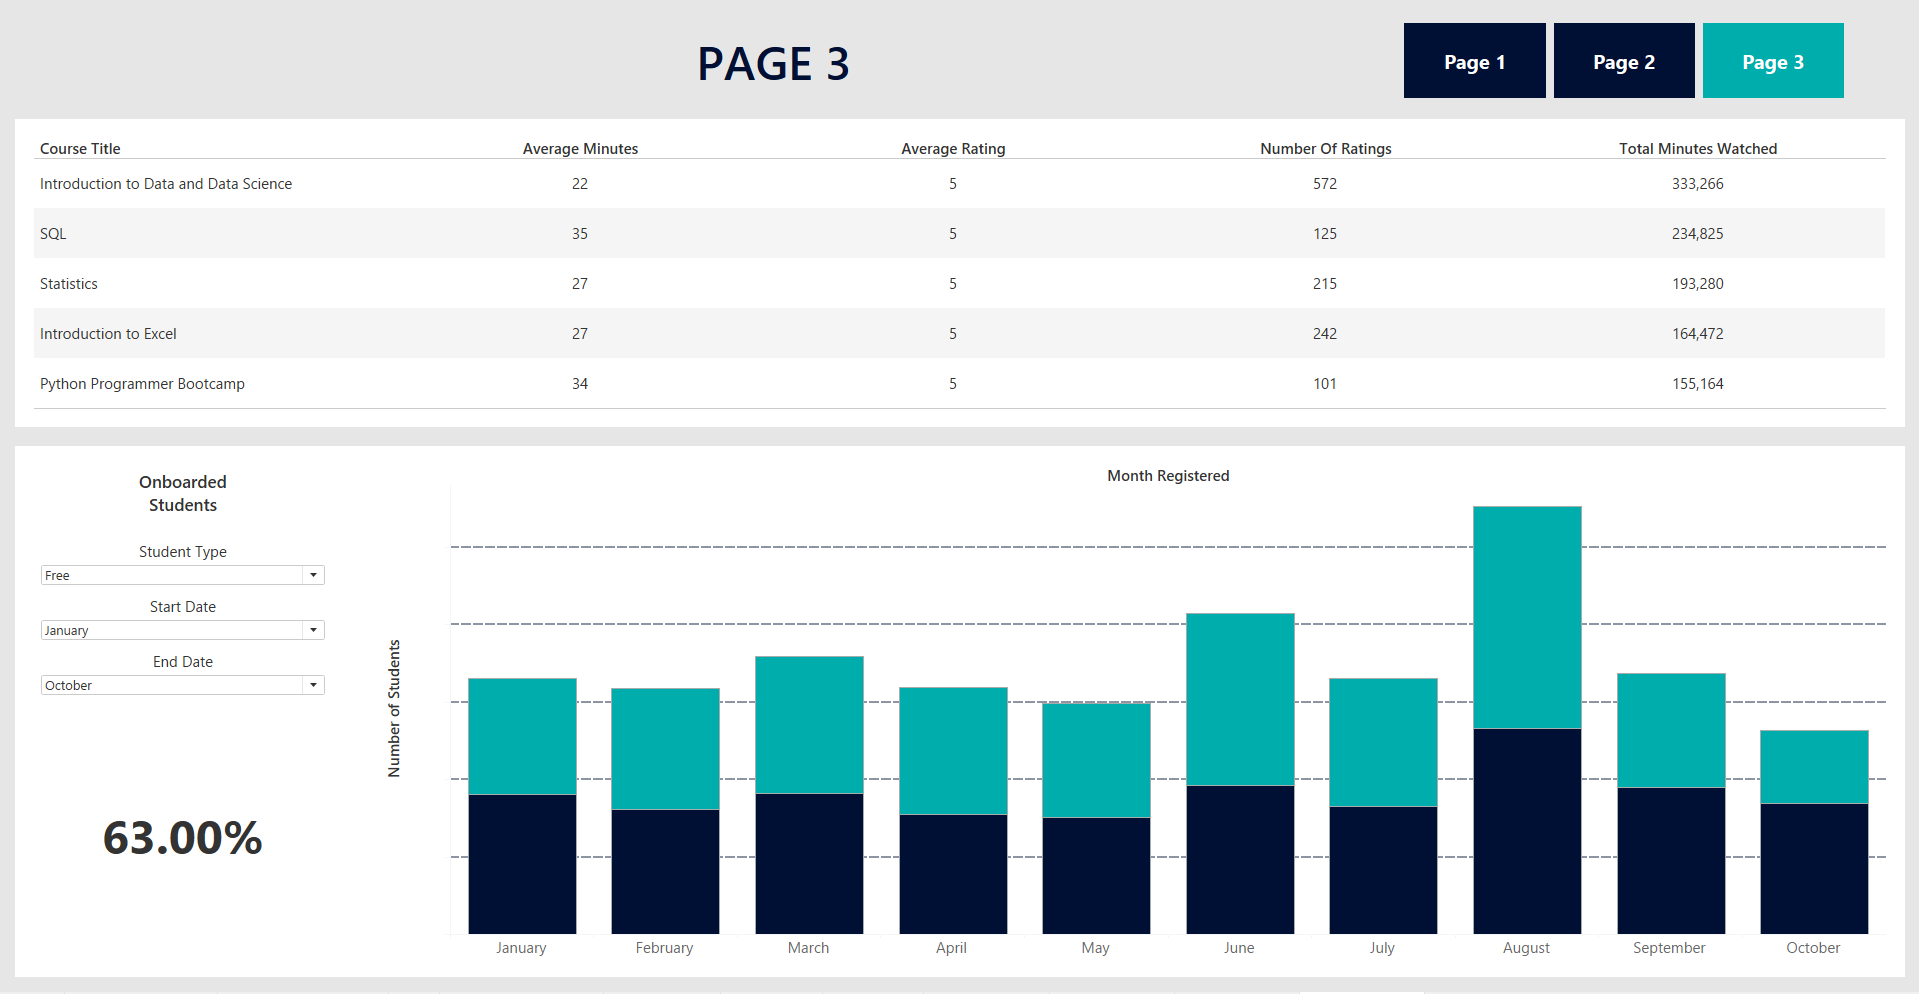

Layout of this report page (visuals, bound fields, positions):
{"tool":"tableau","page":{"name":"Dashboard 3","canvas":[1000,1000],"units":"permille","ordinal":2},"visuals":[{"type":"text","box":[343.1,15,120,93.6]},{"type":"dashboard-object","box":[729.6,21.2,77.9,81.2]},{"type":"dashboard-object","box":[807.5,21.2,77.2,81.2]},{"type":"dashboard-object","box":[884.7,21.2,77.2,81.2]},{"type":"worksheet","title":"table","mark":"Automatic","rows":["course_title"],"box":[9.1,123.4,981.9,308.6]},{"type":"worksheet","title":"Onboarded Students","mark":"Bar","rows":["student_id"],"cols":["Date Registered (Months)"],"box":[183.4,431.9,807.5,549.3]},{"type":"text","box":[20.5,485.6,151.5,83.7]},{"type":"parameter","param":"[Parameters].[Parameter 3]","box":[20.5,569.3,151.5,68.7]},{"type":"parameter","param":"[Parameters].[Parameter 4]","box":[20.5,638,151.5,68.7]},{"type":"parameter","param":"[Parameters].[Parameter 4 1]","box":[20.5,706.6,151.5,68.7]},{"type":"worksheet","title":"KPI onboarding","mark":"Automatic","box":[20.5,775.3,151.5,196]}]}

Visuals, with their boxes on the dashboard's canvas, which has no fixed pixel size, in thousandths of its width and height (x1, y1, x2, y2). These are canvas units, not pixel positions in the 1919x994 screenshot, which may show the page scaled, cropped or inside an application window:
text: rect(343, 15, 463, 109)
dashboard-object: rect(730, 21, 808, 102)
dashboard-object: rect(808, 21, 885, 102)
dashboard-object: rect(885, 21, 962, 102)
"table" worksheet: rect(9, 123, 991, 432)
"Onboarded Students" worksheet (Bar marks): rect(183, 432, 991, 981)
text: rect(20, 486, 172, 569)
parameter: rect(20, 569, 172, 638)
parameter: rect(20, 638, 172, 707)
parameter: rect(20, 707, 172, 775)
"KPI onboarding" worksheet: rect(20, 775, 172, 971)
